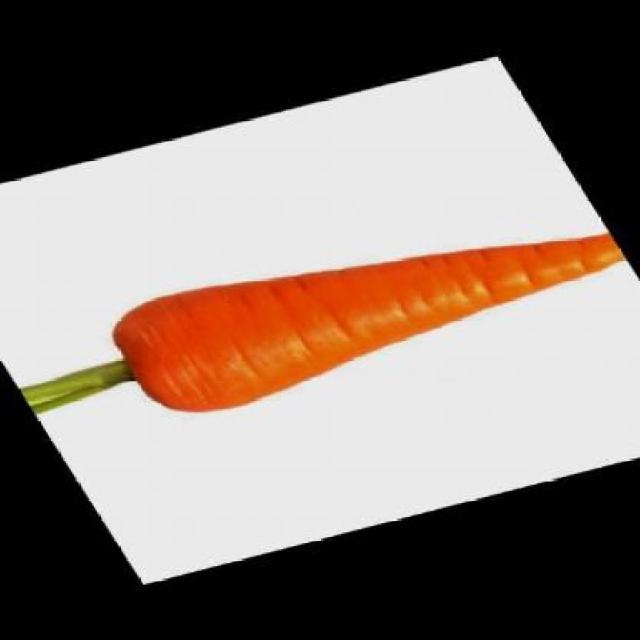carrot: (91, 187, 638, 427)
